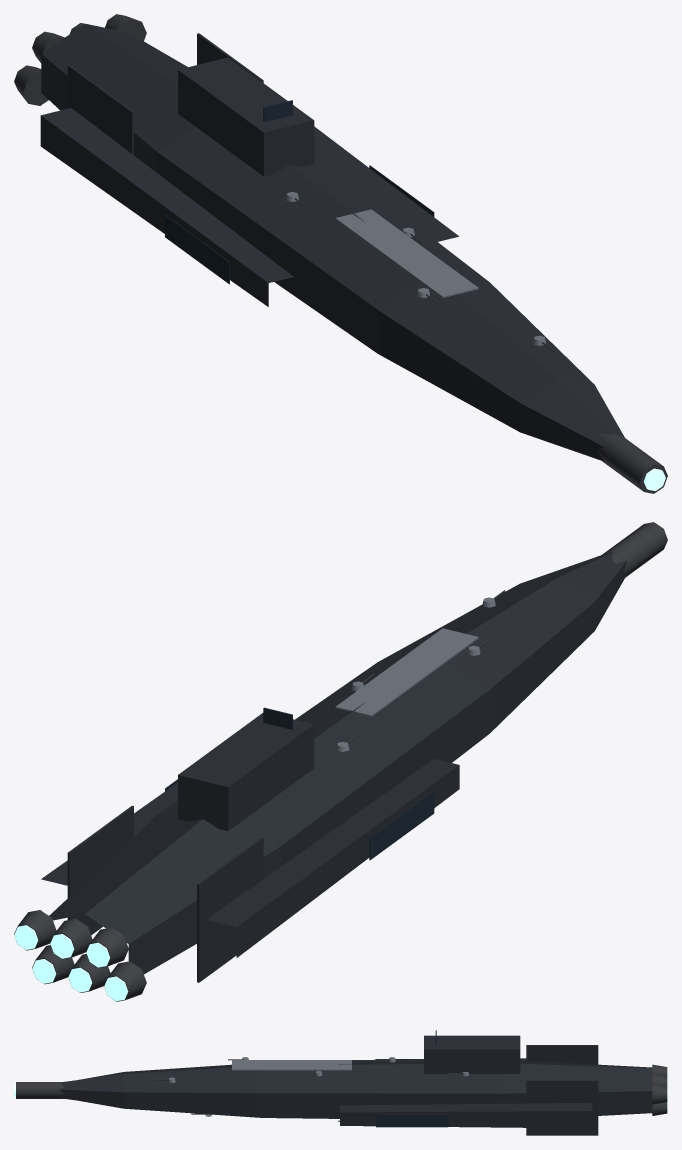
Rendered from space_ship_battleship_mk4.glb.
The picture shows the model from 3 angles, top to bottom: view 1: azimuth 30°, elevation 25°; view 2: azimuth 150°, elevation 25°; view 3: azimuth 270°, elevation 25°; orthographic projection. The views are drawn at different scales.
Visible parts, largest first — view 1: body, main_gun, hangar_r, engine_0; view 2: body, main_gun, hangar_r, engine_0, engine_1, engine_5, engine_3, engine_2, engine_4; view 3: body, hangar_l, main_gun, engine_5, engine_4.
Part boxes in pixels (left/top/right/bottom): body: left=40, top=23, right=624, bottom=460; main_gun: left=596, top=434, right=667, bottom=493; hangar_r: left=165, top=215, right=229, bottom=284; engine_0: left=14, top=65, right=48, bottom=105; body: left=41, top=552, right=626, bottom=982; main_gun: left=602, top=522, right=667, bottom=577; hangar_r: left=369, top=791, right=434, bottom=860; engine_0: left=104, top=961, right=146, bottom=1001; engine_1: left=86, top=927, right=128, bottom=967; engine_5: left=14, top=910, right=56, bottom=950; engine_3: left=50, top=918, right=92, bottom=959; engine_2: left=68, top=954, right=110, bottom=992; engine_4: left=32, top=945, right=74, bottom=984; body: left=58, top=1030, right=652, bottom=1135; hangar_l: left=376, top=1114, right=448, bottom=1127; main_gun: left=14, top=1082, right=66, bottom=1098; engine_5: left=652, top=1084, right=667, bottom=1104; engine_4: left=652, top=1101, right=667, bottom=1115.
Size of what is drawn, in the model's own units: 28.5 by 19.82 by 141.
